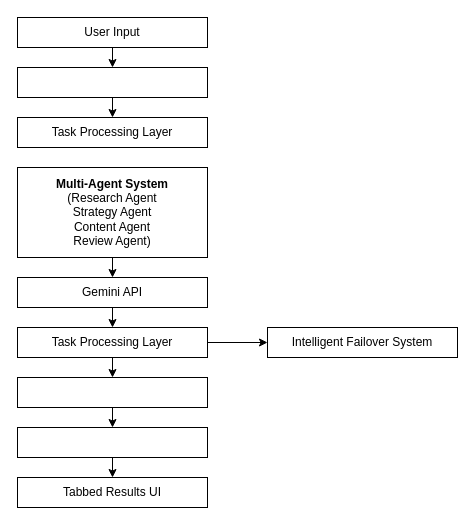
Image size: 475x525. Some labels were removed from this diagram. The shapes that lost their labels are listed below. From the top down, each one's centre as x and y in pixels, then its label:
At (x=112, y=82): "Streamlit Frontend".
At (x=112, y=392): "Fallback Demo Response".
At (x=112, y=442): "Final Output Display".
